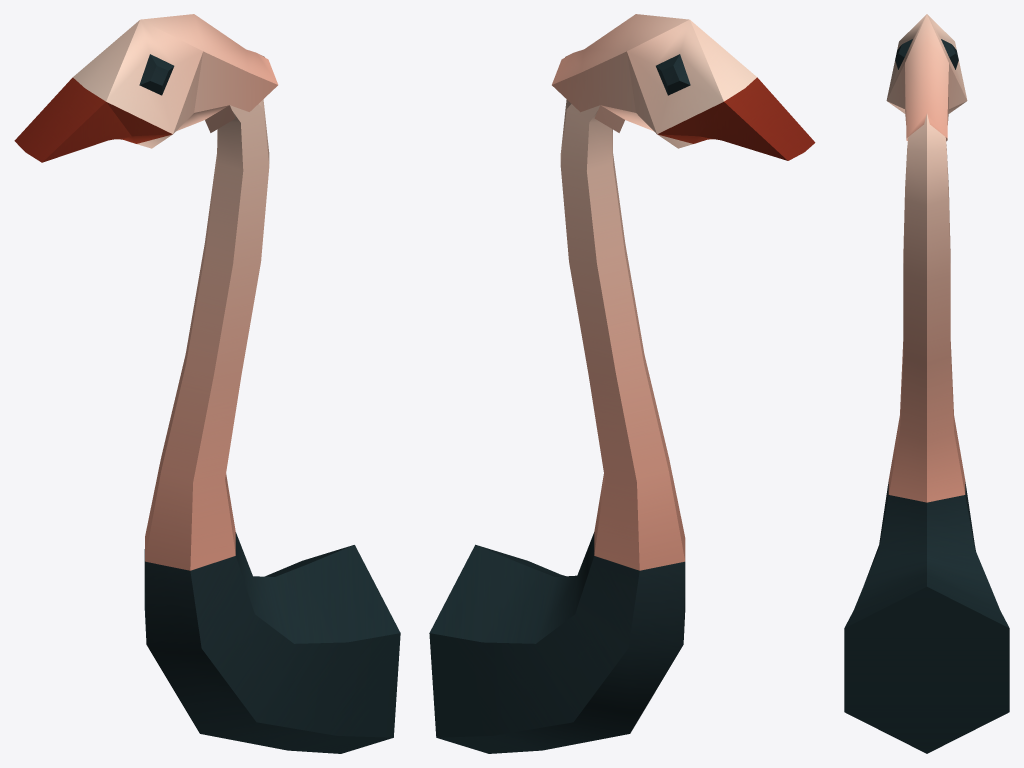
Rendered from Autruche_head.fbx.
3 renders of one model, left to right at view 1: azimuth 30°, elevation 25°; view 2: azimuth 150°, elevation 25°; view 3: azimuth 270°, elevation 25°, orthographic. The views are drawn at different scales.
Parts seen in each view (by area): view 1: Autruche_head; view 2: Autruche_head; view 3: Autruche_head.
Part boxes in pixels (x1=…): Autruche_head: x1=14, y1=14, x2=400, y2=753; Autruche_head: x1=429, y1=14, x2=815, y2=753; Autruche_head: x1=844, y1=14, x2=1009, y2=753.
Size of the model in its own units: 34.99 by 79.61 by 18.17.
